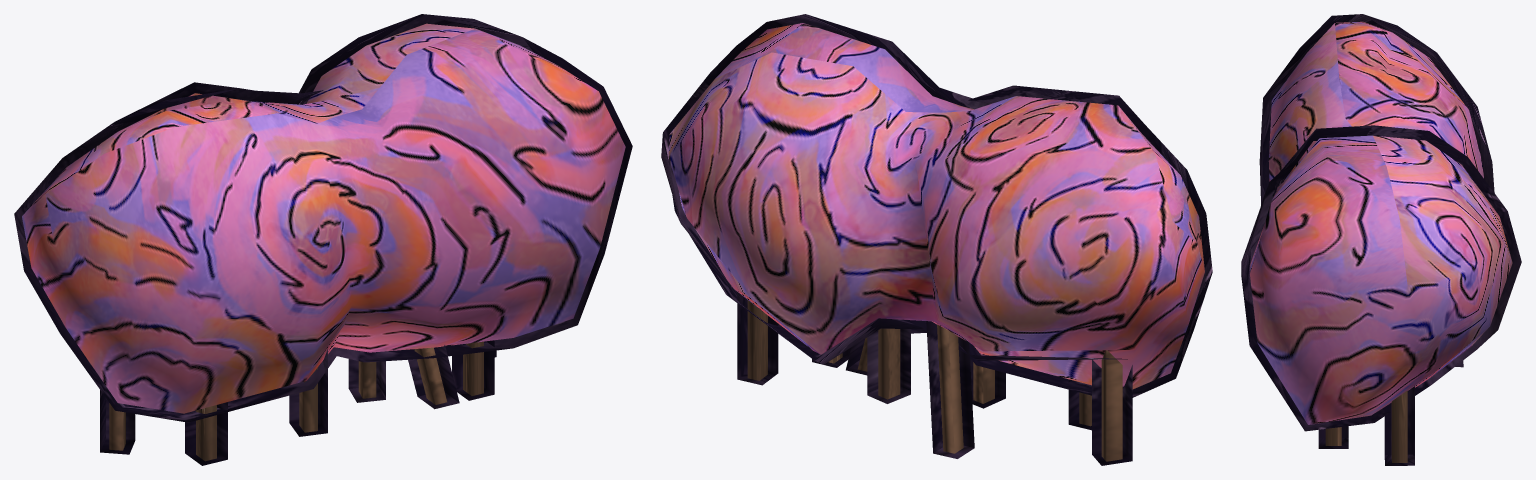
The model's file is polygonalmind-momuspark-005.glb.
3 views of the same model, side by side, from view 1: azimuth 30°, elevation 25°; view 2: azimuth 150°, elevation 25°; view 3: azimuth 270°, elevation 25° (orthographic). The views are drawn at different scales.
Visible parts, largest first — view 1: Bush_03_art; view 2: Bush_03_art; view 3: Bush_03_art.
Boxes of the visible parts, bbox=[...] form: Bush_03_art: bbox=[14, 14, 632, 465]; Bush_03_art: bbox=[661, 14, 1212, 465]; Bush_03_art: bbox=[1241, 14, 1521, 465].
Size of what is drawn, in the model's own units: 2.73 by 1.68 by 1.4.
Materials: 3 (3 with a texture image).
